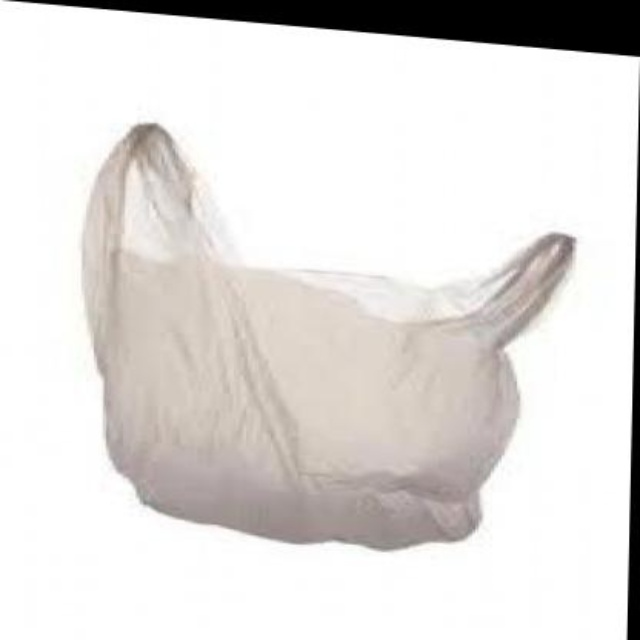trash: (83, 125, 572, 546)
